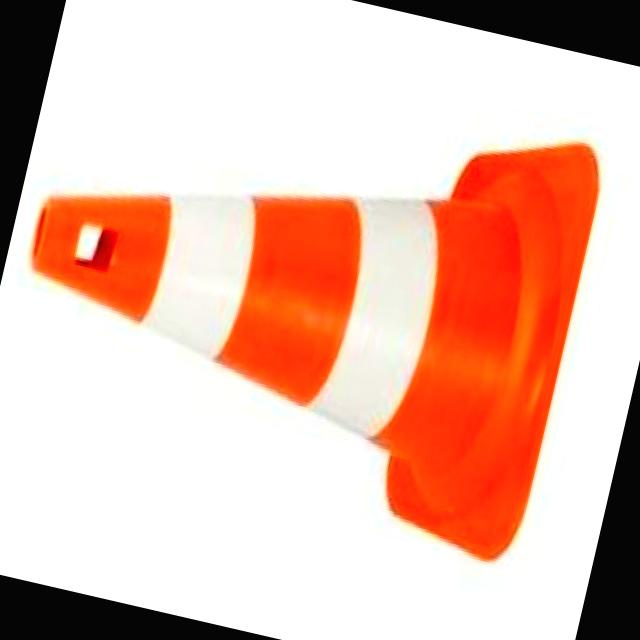cone: (0, 13, 619, 565)
